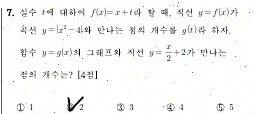choice: (63, 96, 77, 112)
not-choice: (215, 102, 226, 113), (115, 102, 126, 112), (165, 102, 176, 112), (15, 102, 25, 112)
